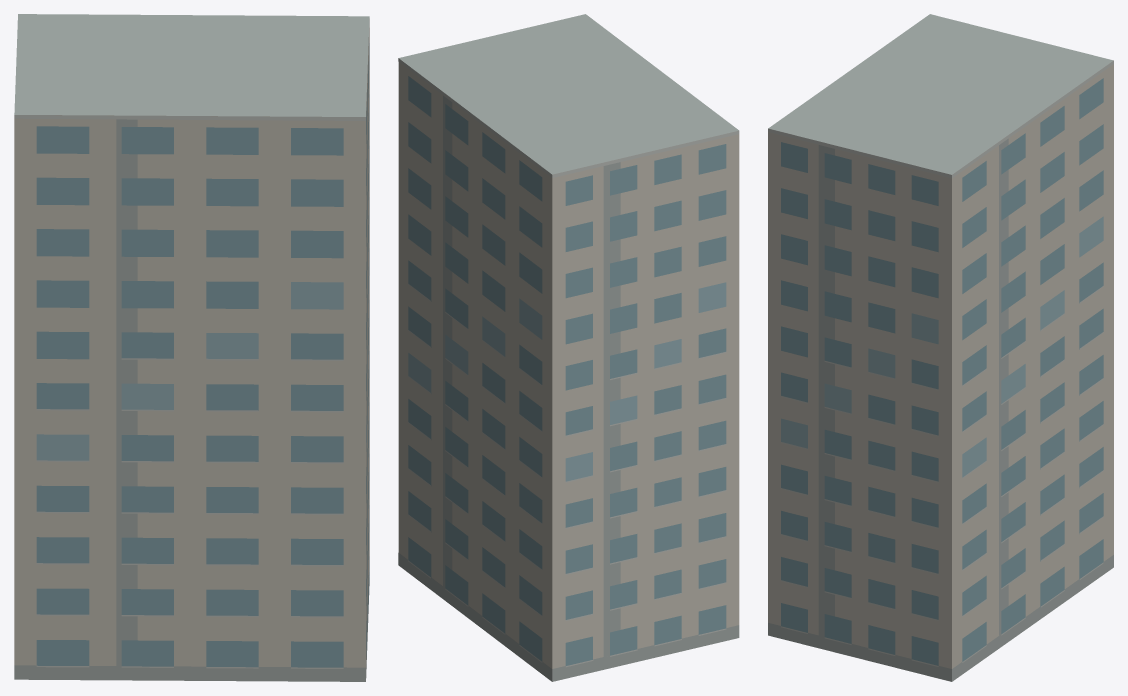
Rendered from residential-f7a5c923-f8d3-4a99-9901-7e7617c0c7a0.glb.
The picture shows the model from 3 angles, left to right: view 1: azimuth 30°, elevation 25°; view 2: azimuth 150°, elevation 25°; view 3: azimuth 270°, elevation 25°; orthographic projection. The views are drawn at different scales.
Visible parts, largest first — view 1: residential-f7a5c923-f8d3-4a99-9901-7e7617c0c7a0.tmp; view 2: residential-f7a5c923-f8d3-4a99-9901-7e7617c0c7a0.tmp; view 3: residential-f7a5c923-f8d3-4a99-9901-7e7617c0c7a0.tmp.
Boxes of the visible parts, <box> form: residential-f7a5c923-f8d3-4a99-9901-7e7617c0c7a0.tmp: <box>14,14,369,681</box>; residential-f7a5c923-f8d3-4a99-9901-7e7617c0c7a0.tmp: <box>398,14,739,681</box>; residential-f7a5c923-f8d3-4a99-9901-7e7617c0c7a0.tmp: <box>768,14,1113,681</box>.
Bounding box in the file's own units: 23.83 × 35 × 21.64.
